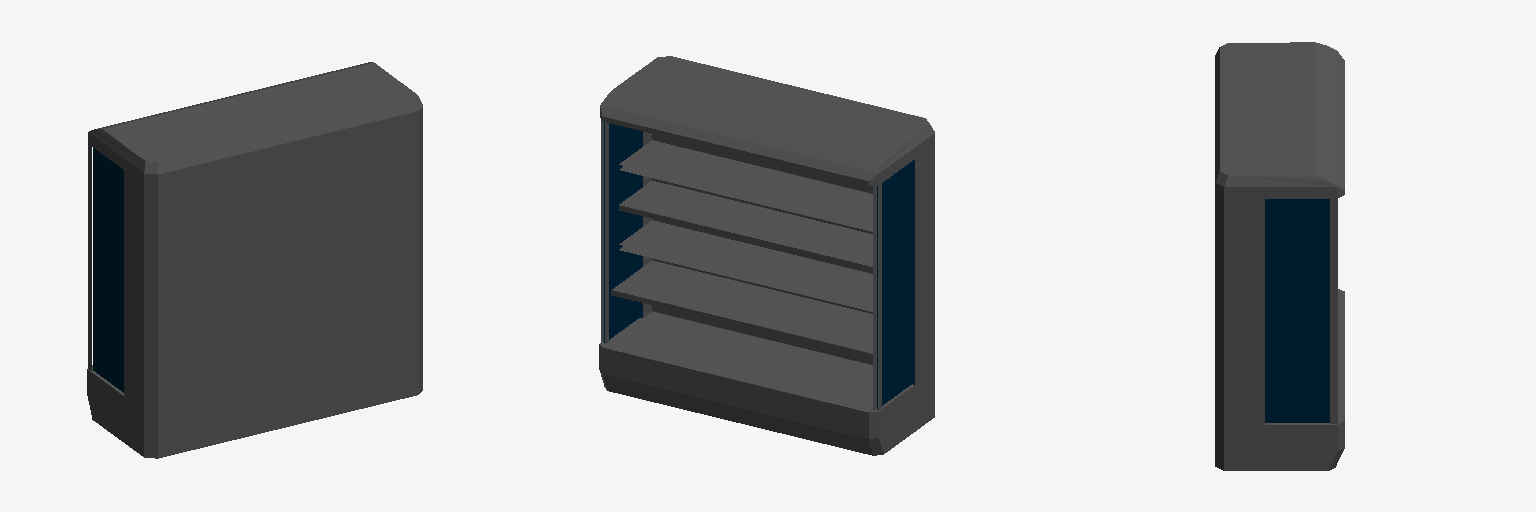
Rendered from MarketFridge.obj.
3 renders of one model, left to right at view 1: azimuth 30°, elevation 25°; view 2: azimuth 150°, elevation 25°; view 3: azimuth 270°, elevation 25°, orthographic.
Visible parts, largest first — view 1: Windows prefab (1); view 2: Windows prefab (1); view 3: Windows prefab (1).
Part boxes in pixels (left/top/right/bottom): Windows prefab (1): left=87, top=62, right=422, bottom=458; Windows prefab (1): left=599, top=56, right=934, bottom=455; Windows prefab (1): left=1215, top=42, right=1344, bottom=470.
Bounding box in the file's own units: 2 × 2.02 × 0.8018.